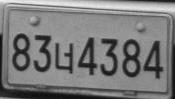3: (32, 33, 52, 72), (99, 37, 118, 77)
4: (76, 36, 98, 76), (142, 39, 163, 79)
8: (121, 38, 141, 78), (11, 32, 30, 71)
너: (54, 41, 74, 74)
